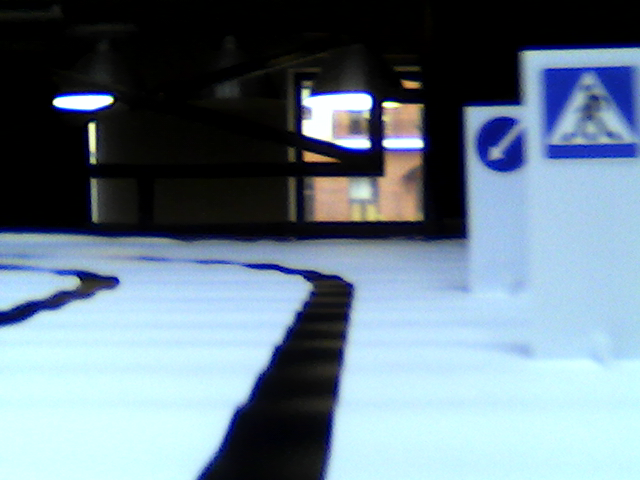pesh: (541, 65, 640, 159)
prep: (475, 114, 525, 168)
